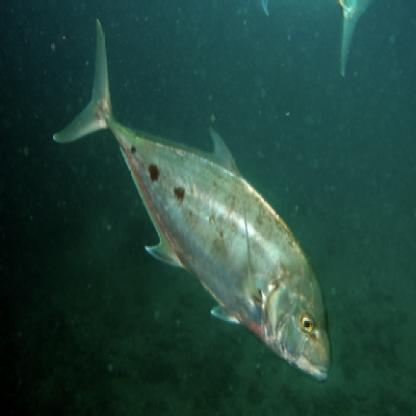jack: (44, 9, 334, 395)
